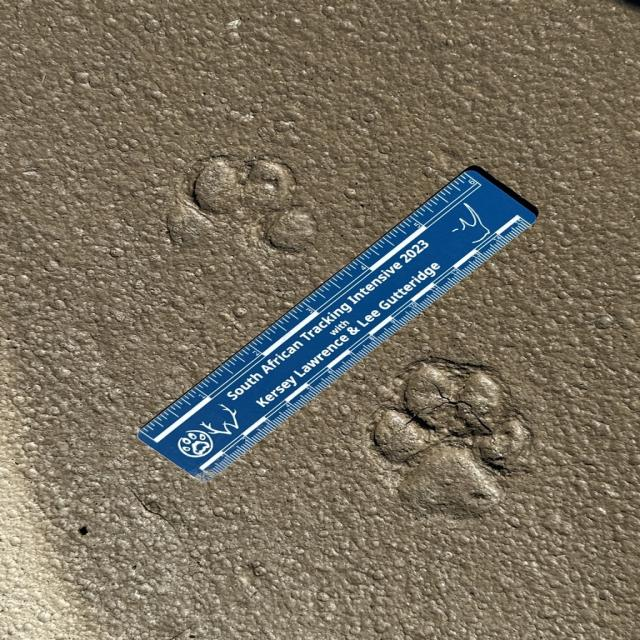canid: (370, 358, 527, 520), (163, 154, 315, 292)
